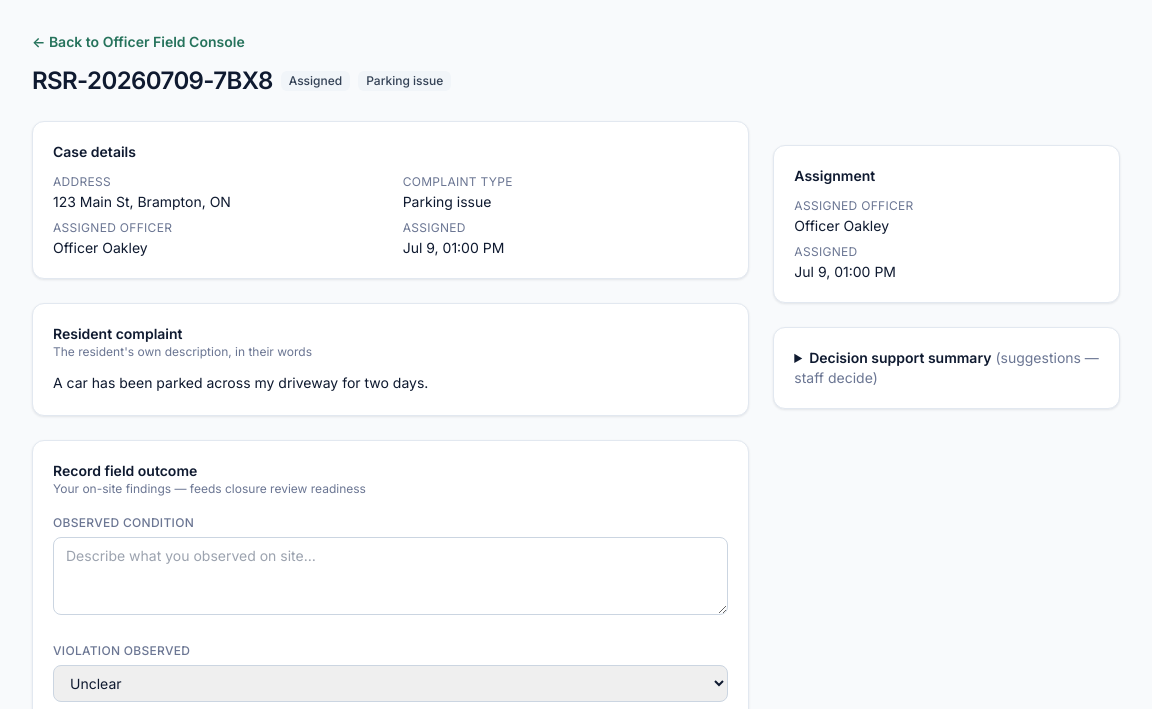
Test: AppOfficerCasePage field outcome submission › shows the success state when the database confirms the complete structured outcome
Expected: the heading "Record field outcome" is shown, left=53, top=462, right=197, bottom=479
Type "Vehicle parked across the driveway." into the text box with placeholder "Describe what you observed on site…" at (391, 576), box left=53, top=537, right=728, bottom=615
(page scrolled)
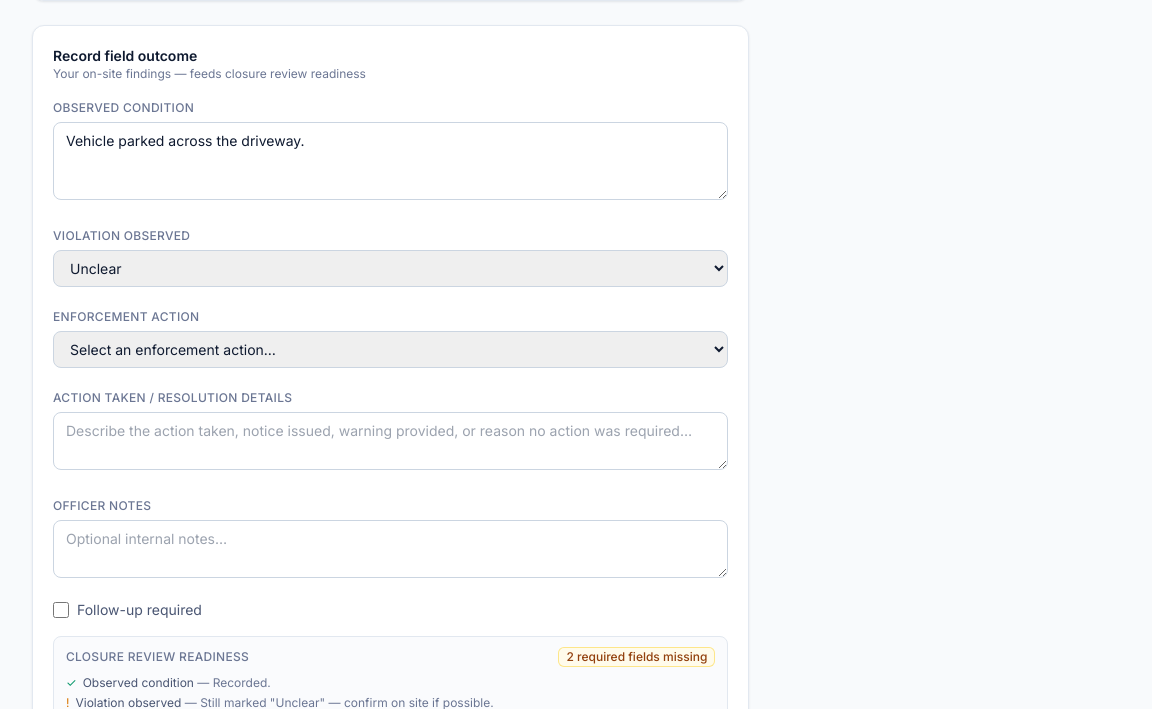
Select "Education / warning provided" in the dropdown labelled "Enforcement action" at (391, 349), box left=53, top=331, right=728, bottom=368
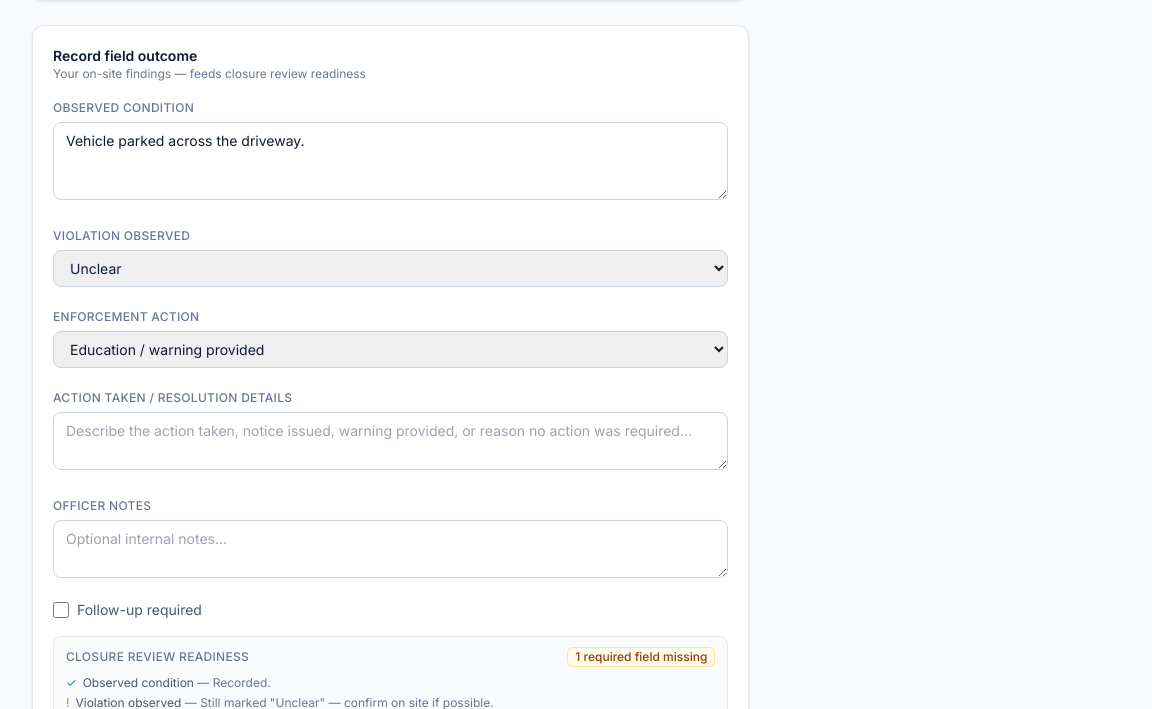
Replace the text in the text box with placeholder "Describe the action taken, notice issued, warning provided, or reason no action was required…" with "Issued a verbal warning." at (391, 441), box left=53, top=412, right=728, bottom=470
(page scrolled)
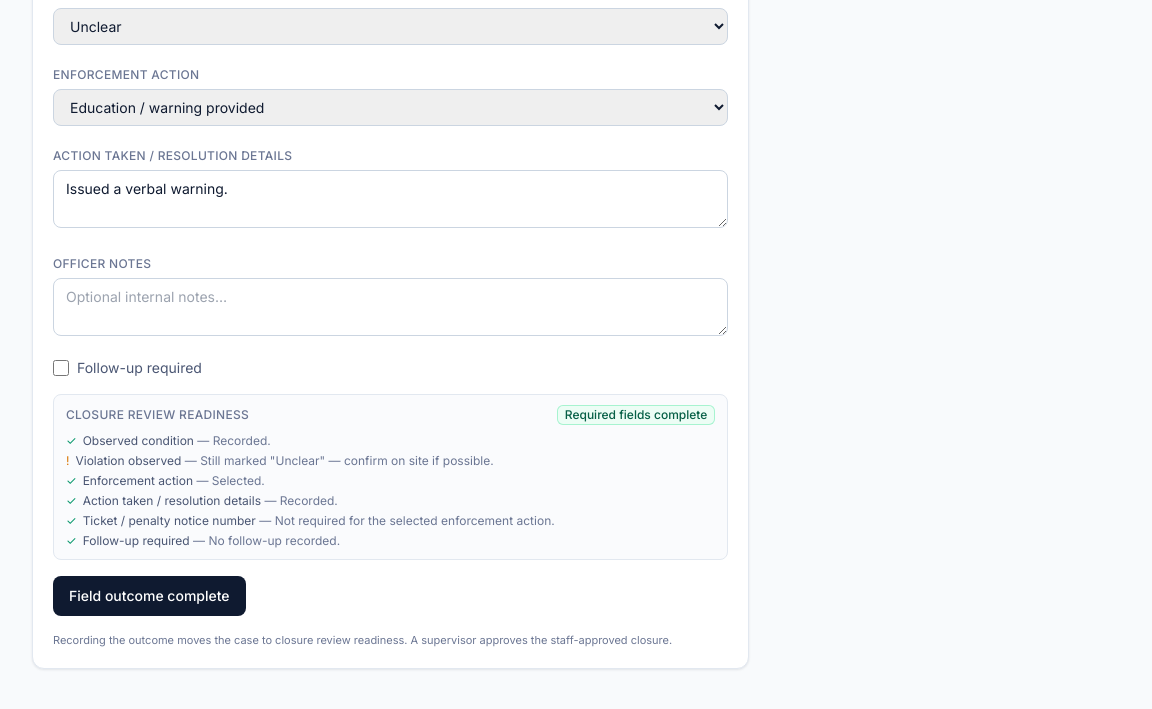
Click the button "Field outcome complete" at (149, 596), box left=53, top=576, right=246, bottom=616
(page scrolled)
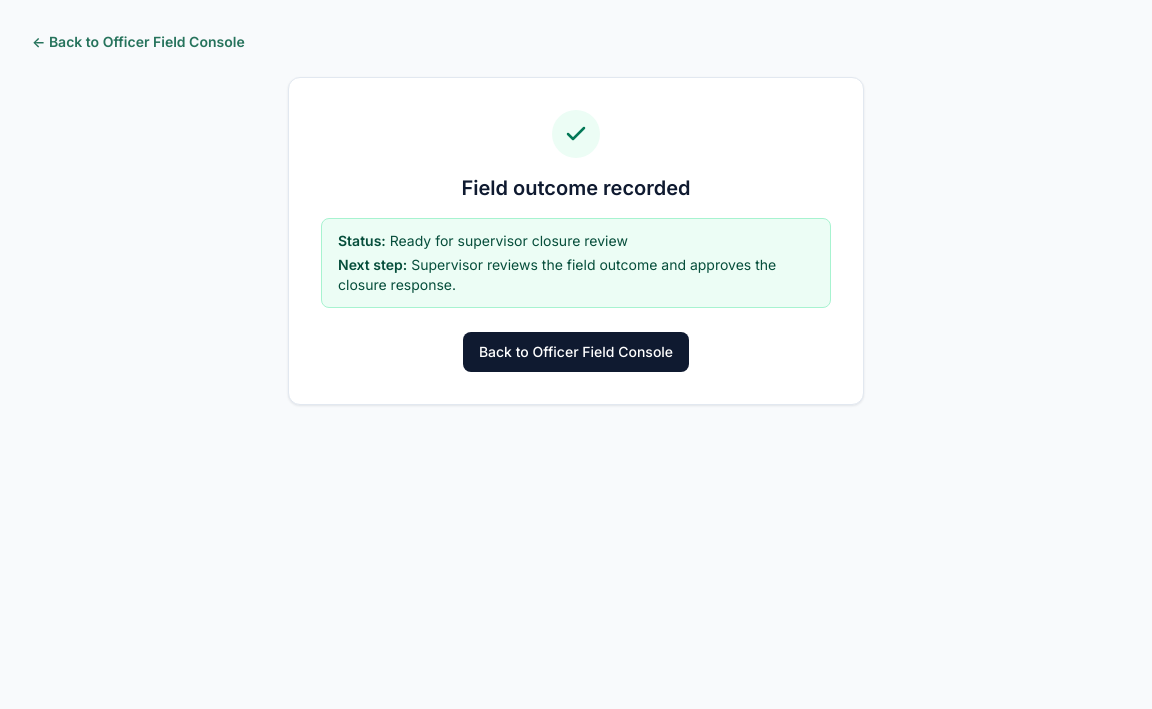
Expected: the heading "Field outcome recorded" is shown, left=462, top=176, right=690, bottom=200
Expected: the text "Status: Ready for supervisor closure review" is shown, left=338, top=232, right=628, bottom=249
